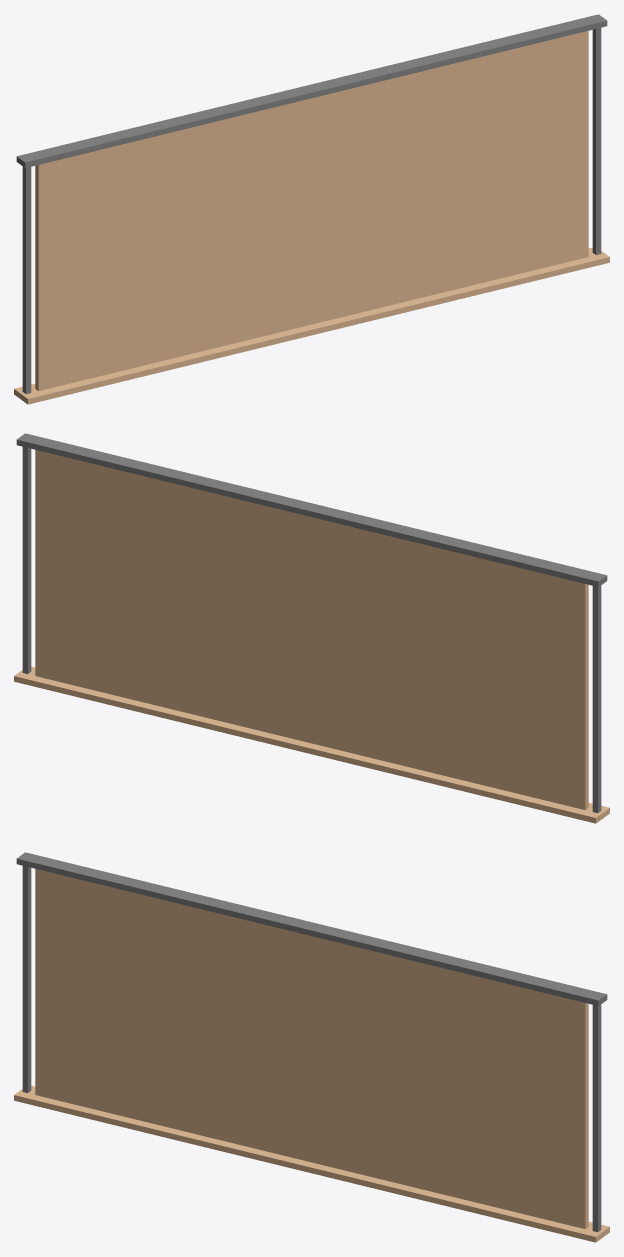
The model's file is Wood 1.fbx.
The picture shows the model from 3 angles, top to bottom: view 1: azimuth 30°, elevation 25°; view 2: azimuth 150°, elevation 25°; view 3: azimuth 330°, elevation 25°; orthographic projection.
Parts seen in each view (by area): view 1: Cube; view 2: Cube; view 3: Cube.
Part boxes in pixels (x1=…): Cube: x1=14, y1=14, x2=609, y2=404; Cube: x1=14, y1=433, x2=609, y2=823; Cube: x1=14, y1=852, x2=609, y2=1242.
Size of the model in its own units: 2042 by 805 by 85.14.
